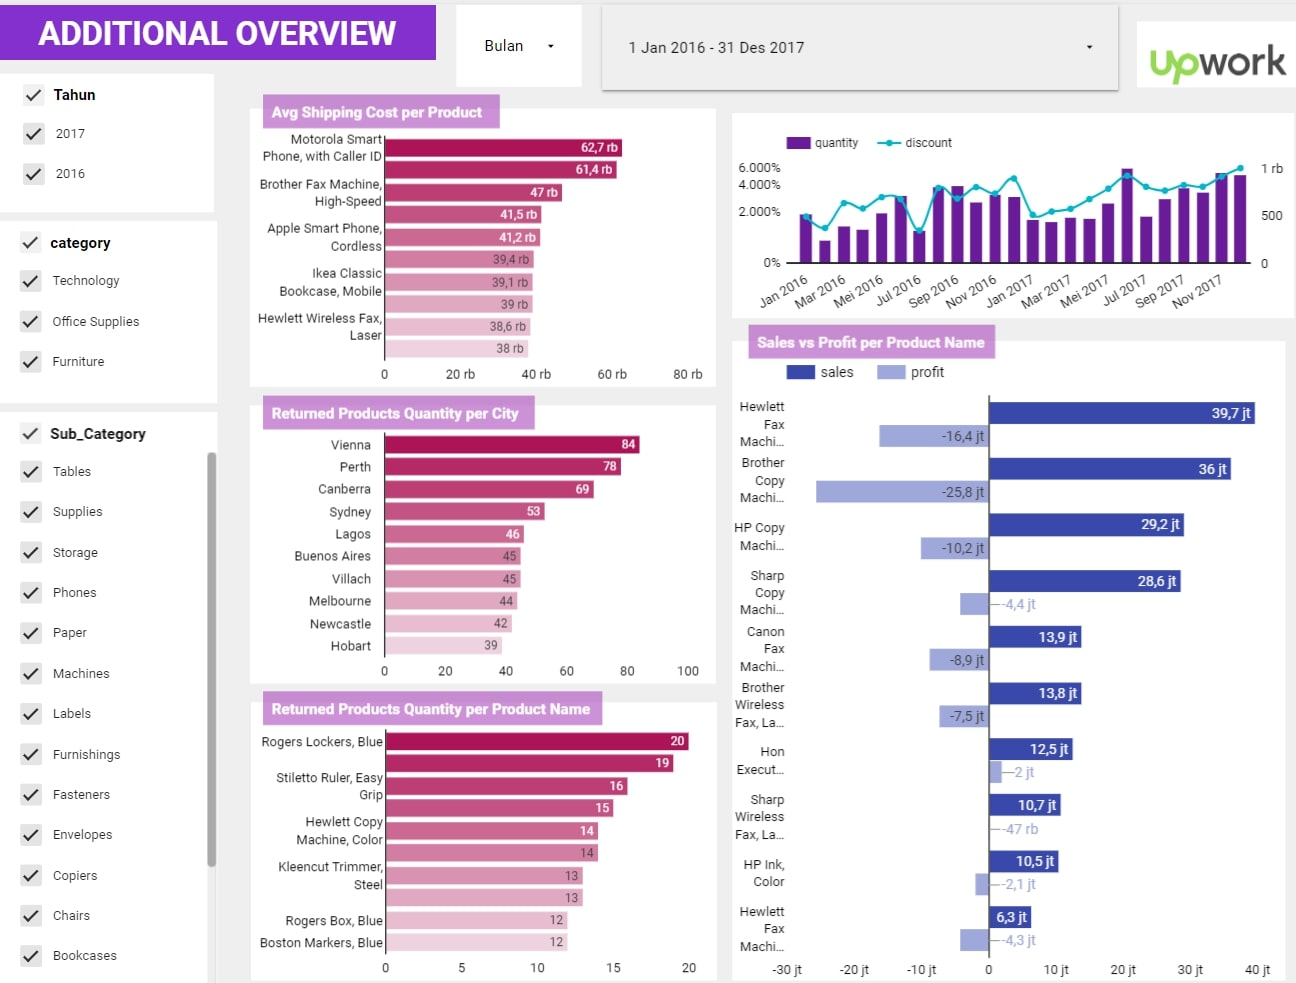

The page's visual inventory and layout, read from the dashboard file:
{"tool":"powerbi","page":{"name":"Additionals","canvas":[1280,720],"ordinal":2},"visuals":[{"type":"textbox","box":[19.3,9.6,214.7,68.8],"z":0},{"type":"lineStackedColumnComboChart","title":"Sales & Discount per Month","fields":{"Category":["FACT_CustTrx.Order Date.Variasi.Hierarki Tanggal.Bulan"],"Y2":["Sum(FACT_CustTrx.discount)"],"Y":["Sum(FACT_CustTrx.quantity)"]},"box":[728.1,9.6,521.6,236.7],"z":1000},{"type":"slicer","fields":{"Values":["FACT_CustTrx.Order Date.Variasi.Hierarki Tanggal.Tahun"]},"box":[19.3,88.1,214.7,79.8],"z":2000},{"type":"slicer","title":"Month","fields":{"Values":["FACT_CustTrx.Order Date.Variasi.Hierarki Tanggal.Bulan"]},"box":[19.3,183.1,214.7,63.3],"z":3000},{"type":"clusteredBarChart","title":"Average Shipping Cost per Product","fields":{"Category":["FACT_CustTrx.Product Name"],"Y":["Avg(FACT_CustTrx.Shipping Cost)"]},"box":[246.4,9.6,470.7,218.8],"z":4000},{"type":"clusteredBarChart","title":"Returned Products Quantity per Product Name","fields":{"Y":["Sum(FACT_Return.quantity)"],"Category":["FACT_Return.Product Name"]},"box":[246.4,481.7,470.7,220.2],"z":5000},{"type":"clusteredBarChart","title":"Returned Products Quantity per City","fields":{"Y":["Sum(FACT_Return.quantity)"],"Category":["FACT_Return.city"]},"box":[246.4,246.4,470.7,217.5],"z":6000},{"type":"clusteredBarChart","title":"Sales & Profit per Product Name","fields":{"Category":["FACT_CustTrx.Product Name"],"Y":["Sum(FACT_CustTrx.sales)","Sum(FACT_CustTrx.profit)"]},"box":[728.1,261.5,521.6,440.4],"z":7000},{"type":"slicer","fields":{"Values":["FACT_CustTrx.category"]},"box":[19.3,260.1,214.7,89.5],"z":8000},{"type":"textbox","box":[19.3,523,214.7,27.5],"z":9000},{"type":"slicer","title":"Category","fields":{"Values":["FACT_Return.category","FACT_Return.Sub-Category"]},"box":[19.3,561.5,214.7,139],"z":10000},{"type":"slicer","fields":{"Values":["FACT_CustTrx.Sub-Category"]},"box":[19.3,360.6,214.7,151.4],"z":11000}]}

Visuals, with their boxes on the page's 1280x720 design canvas (x1, y1, x2, y2). These are canvas units, not pixel positions in the 1296x983 screenshot, which may show the page scaled, cropped or inside an application window:
textbox: box(19, 10, 234, 78)
"Sales & Discount per Month" lineStackedColumnComboChart: box(728, 10, 1250, 246)
slicer - FACT_CustTrx.Order Date.Variasi.Hierarki Tanggal.Tahun: box(19, 88, 234, 168)
"Month" slicer: box(19, 183, 234, 246)
"Average Shipping Cost per Product" clusteredBarChart: box(246, 10, 717, 228)
"Returned Products Quantity per Product Name" clusteredBarChart: box(246, 482, 717, 702)
"Returned Products Quantity per City" clusteredBarChart: box(246, 246, 717, 464)
"Sales & Profit per Product Name" clusteredBarChart: box(728, 262, 1250, 702)
slicer - FACT_CustTrx.category: box(19, 260, 234, 350)
textbox: box(19, 523, 234, 550)
"Category" slicer: box(19, 562, 234, 700)
slicer - FACT_CustTrx.Sub-Category: box(19, 361, 234, 512)
